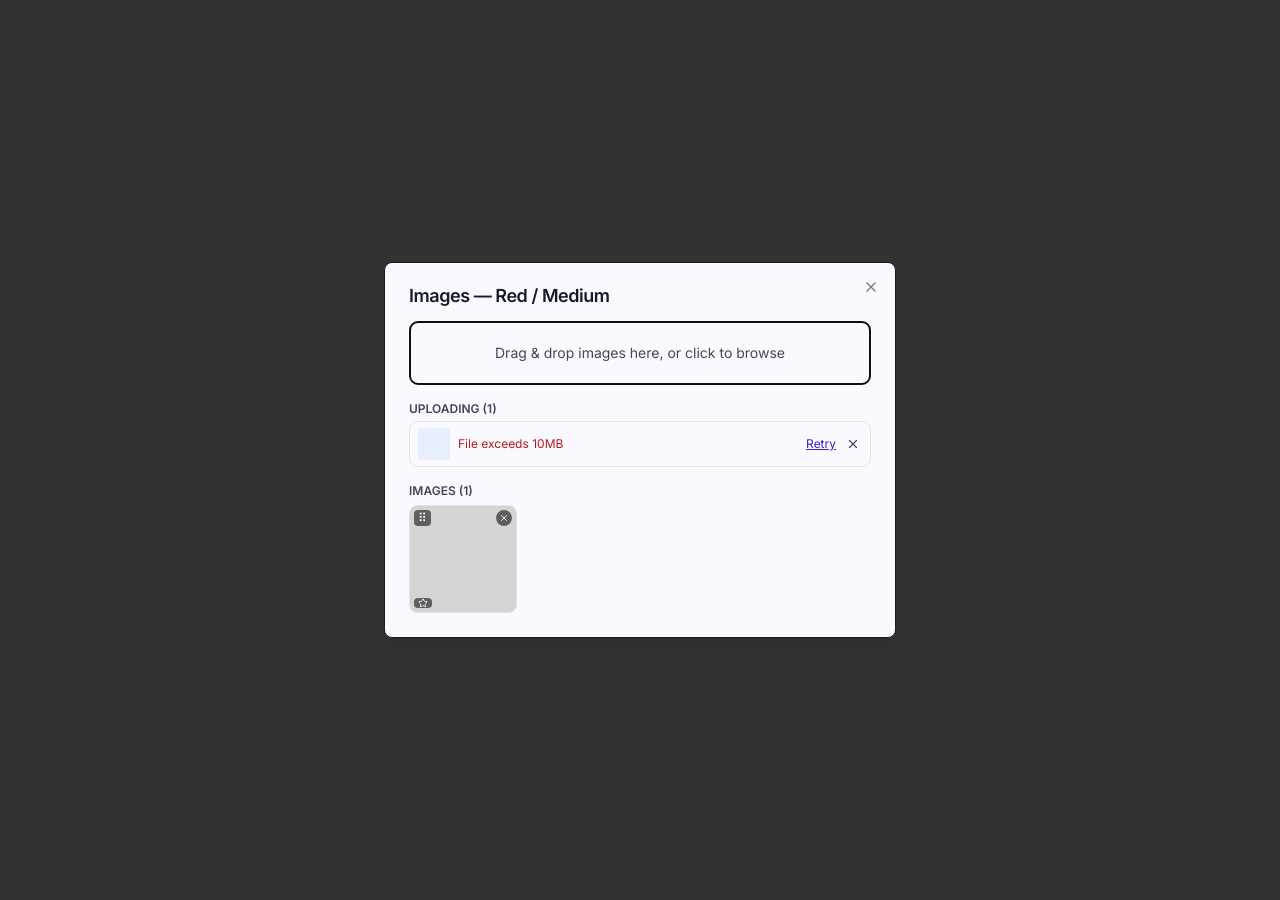
Test: ImageUploadPopup › cancels removal of an uploaded image tile when Cancel is clicked in dialog
Click the button named "Remove image" below "Images (1)". click: click(504, 518)
box: top-left (496, 510), bottom-right (512, 526)
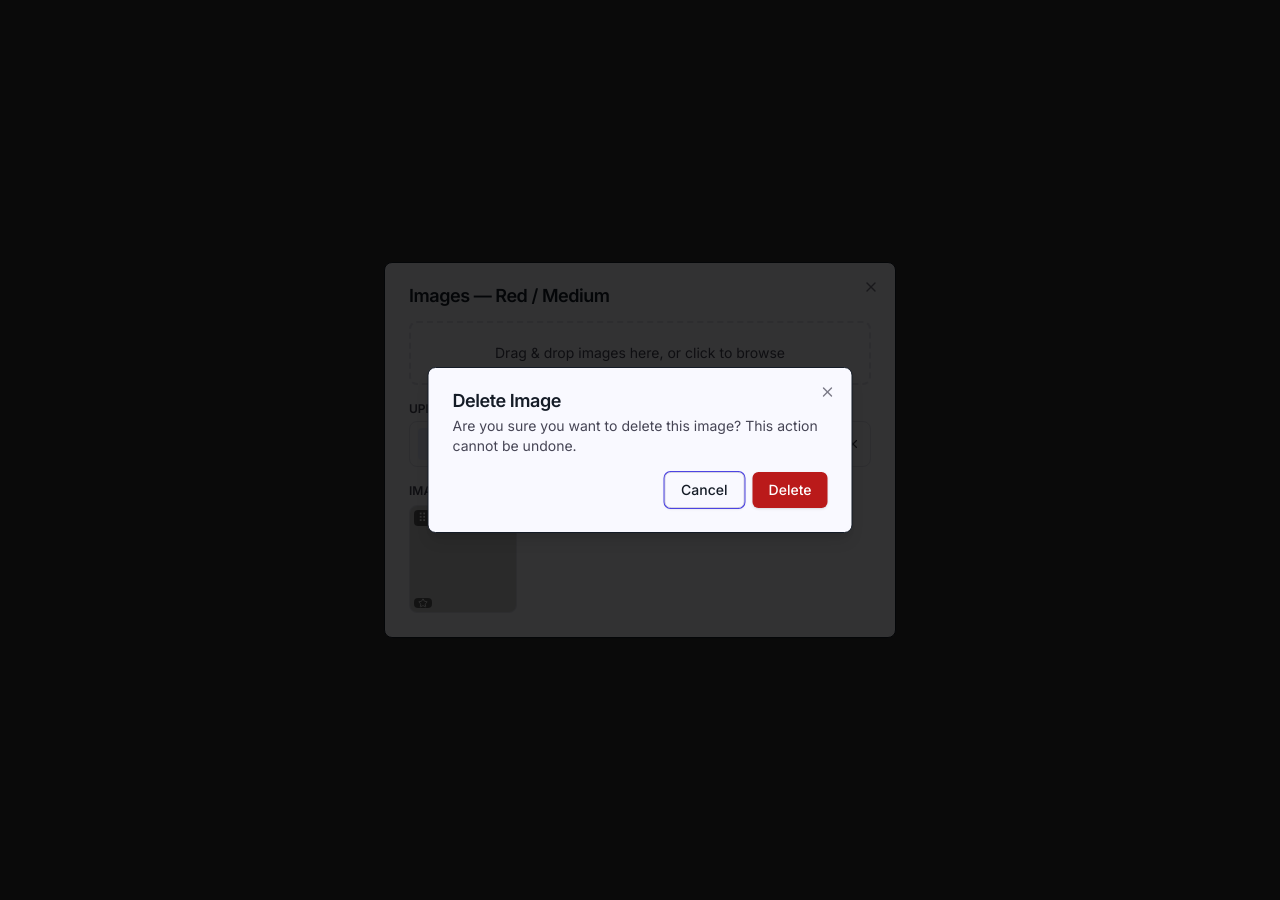
Check: the heading "Delete Image" is shown, box top-left (452, 390), bottom-right (561, 411)
Click the button "Cancel". click: click(704, 490)
box: top-left (664, 472), bottom-right (745, 508)
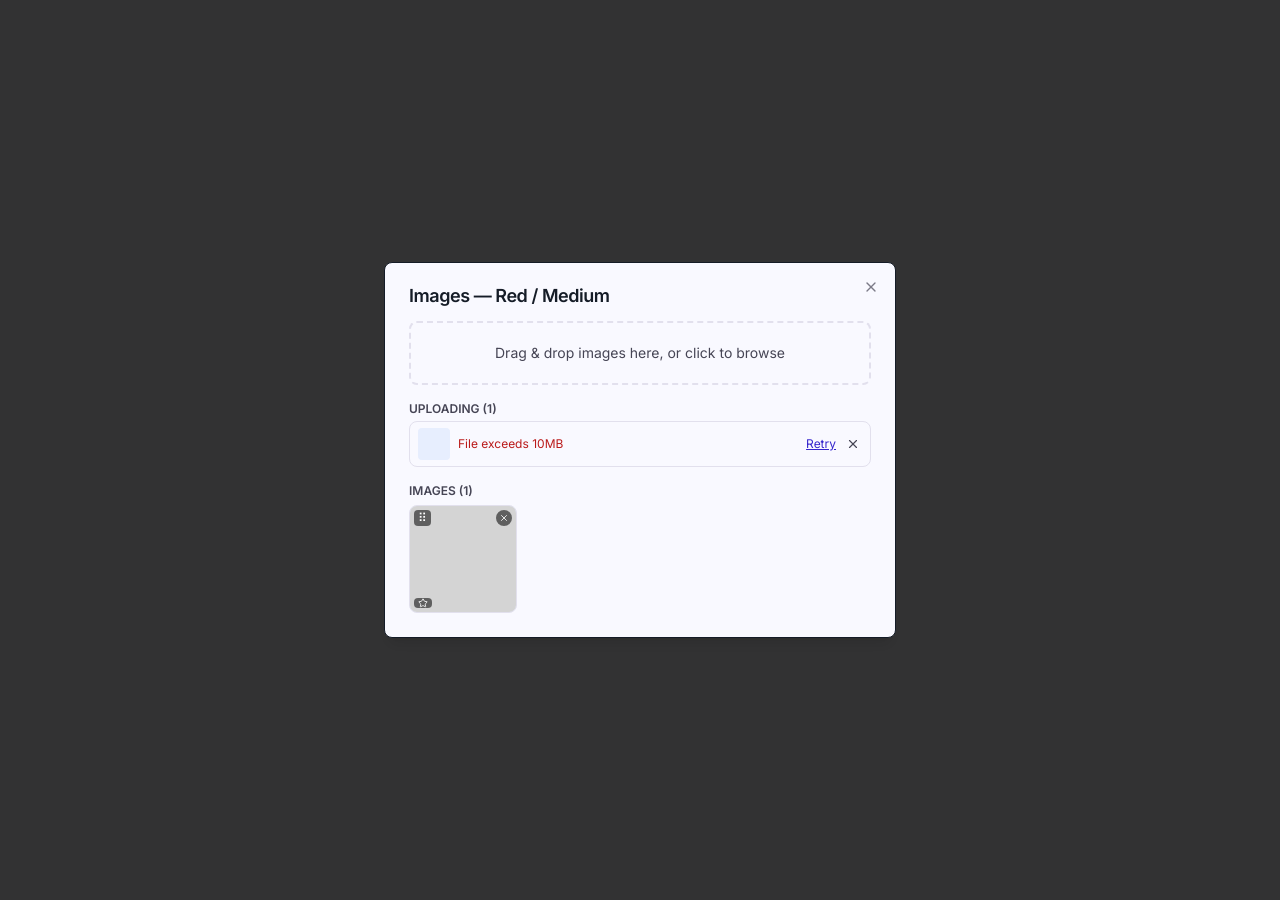
Check: the heading "Delete Image" is gone
